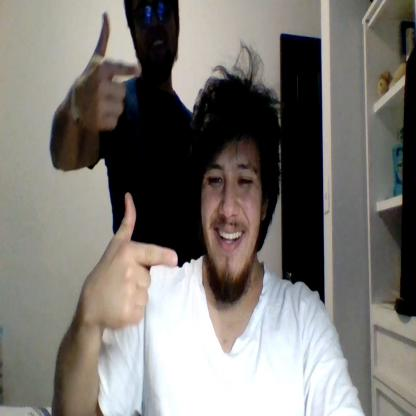G: (98, 194, 178, 330), (77, 12, 140, 130)
